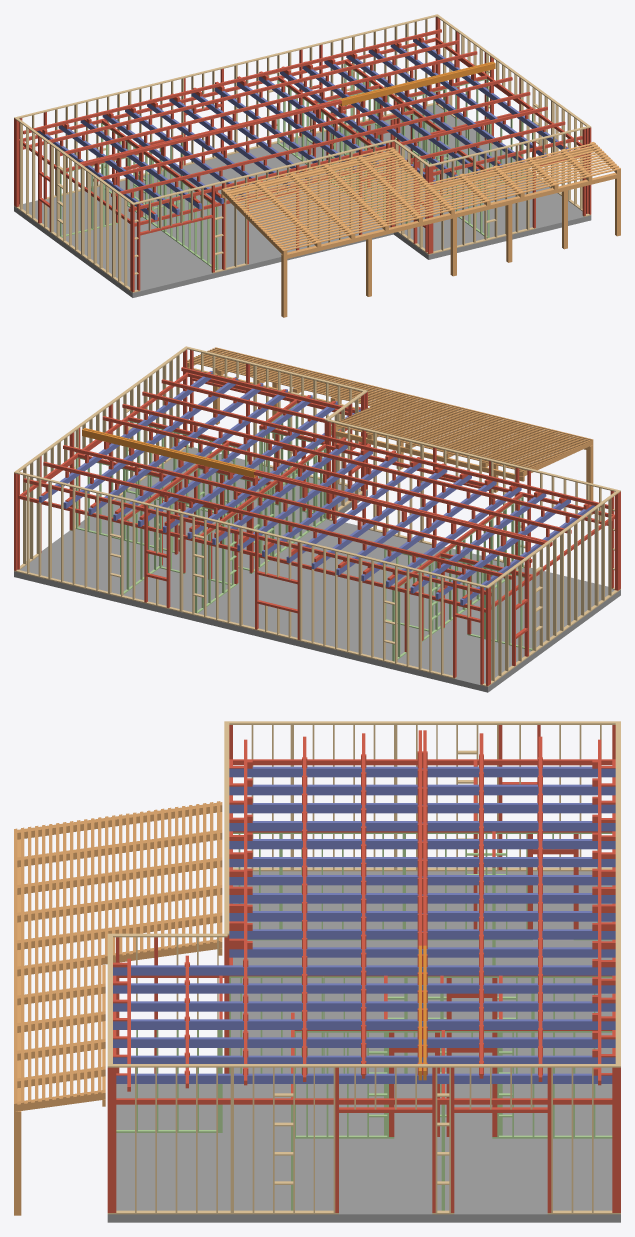
The model's file is Casa_TorresVedras_Estrutura.glb.
The picture shows the model from 3 angles, top to bottom: view 1: azimuth 30°, elevation 25°; view 2: azimuth 150°, elevation 25°; view 3: azimuth 270°, elevation 25°; orthographic projection. The views are drawn at different scales.
Visible parts, largest first — view 1: Fundação | Laje, Pérgola | ripado, Pérgola | viga frontal, Amarração | P11, Lamelada 16, Lamelada 13, Lamelada 14, Lamelada 15, Lamelada 18, Lamelada 17, Lamelada 03, Lamelada 02 (+17 smaller); view 2: Fundação | Laje, Pérgola | ripado, Amarração | P11, Lamelada 15, Lamelada 16, Lamelada 17, Lamelada 14, Lamelada 18, Lamelada 13, Pérgola | viga de encosto 2, Lamelada 12, Amarração | P03 (+40 smaller); view 3: Fundação | Laje, Pérgola | ripado, Lamelada 15, Lamelada 16, Lamelada 12, Lamelada 13, Lamelada 14, Lamelada 18, Lamelada 01, Lamelada 02, Lamelada 17, Lamelada 03 (+23 smaller).
Boxes of the visible parts, x1=… form: Fundação | Laje: x1=14, y1=104, x2=591, y2=297; Pérgola | ripado: x1=221, y1=142, x2=620, y2=251; Pérgola | viga frontal: x1=281, y1=172, x2=620, y2=259; Amarração | P11: x1=19, y1=37, x2=437, y2=141; Lamelada 16: x1=368, y1=49, x2=524, y2=162; Lamelada 13: x1=302, y1=66, x2=457, y2=179; Lamelada 14: x1=324, y1=60, x2=480, y2=173; Lamelada 15: x1=346, y1=55, x2=502, y2=167; Lamelada 18: x1=413, y1=39, x2=568, y2=151; Lamelada 17: x1=390, y1=44, x2=546, y2=157; Lamelada 03: x1=80, y1=120, x2=201, y2=209; Lamelada 02: x1=58, y1=125, x2=179, y2=214; Fundação | Laje: x1=14, y1=447, x2=620, y2=692; Pérgola | ripado: x1=187, y1=347, x2=593, y2=471; Amarração | P11: x1=18, y1=495, x2=485, y2=612; Lamelada 15: x1=113, y1=389, x2=287, y2=520; Lamelada 16: x1=88, y1=383, x2=263, y2=514; Lamelada 17: x1=63, y1=377, x2=238, y2=508; Lamelada 14: x1=138, y1=395, x2=312, y2=526; Lamelada 18: x1=39, y1=371, x2=212, y2=502; Lamelada 13: x1=163, y1=401, x2=337, y2=532; Pérgola | viga de encosto 2: x1=331, y1=430, x2=524, y2=481; Lamelada 12: x1=187, y1=407, x2=360, y2=538; Amarração | P03: x1=326, y1=444, x2=614, y2=517; Fundação | Laje: x1=107, y1=871, x2=620, y2=1222; Pérgola | ripado: x1=14, y1=801, x2=220, y2=1105; Lamelada 15: x1=113, y1=1019, x2=615, y2=1029; Lamelada 16: x1=113, y1=1037, x2=615, y2=1047; Lamelada 12: x1=113, y1=965, x2=615, y2=975; Lamelada 13: x1=113, y1=983, x2=615, y2=993; Lamelada 14: x1=113, y1=1001, x2=615, y2=1011; Lamelada 18: x1=116, y1=1073, x2=612, y2=1083; Lamelada 01: x1=229, y1=766, x2=615, y2=777; Lamelada 02: x1=229, y1=784, x2=615, y2=795; Lamelada 17: x1=113, y1=1055, x2=615, y2=1063; Lamelada 03: x1=229, y1=803, x2=615, y2=813.
Size of the model in its own units: 17.57 by 3.7 by 13.01.
